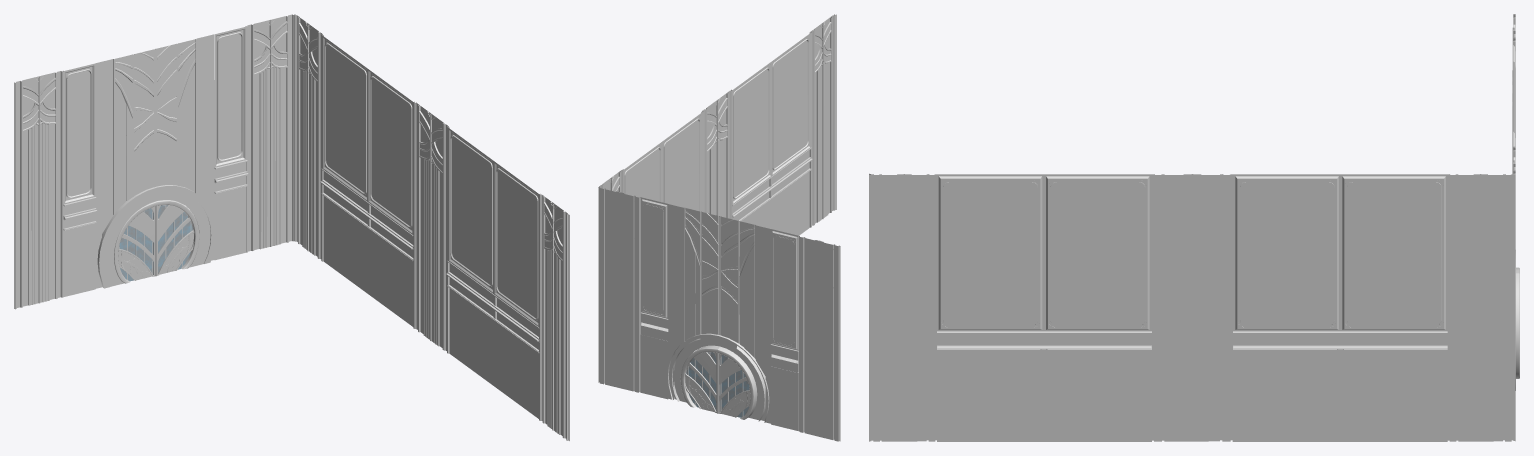
File: Lab_rm_wall_cut.fbx
3 views of the same model, side by side, from view 1: azimuth 30°, elevation 25°; view 2: azimuth 150°, elevation 25°; view 3: azimuth 270°, elevation 25° (orthographic). The views are drawn at different scales.
Parts seen in each view (by area): view 1: polySurface999; view 2: polySurface999; view 3: polySurface999.
Part boxes in pixels (left/top/right/bottom): polySurface999: left=14, top=14, right=569, bottom=440; polySurface999: left=598, top=14, right=840, bottom=441; polySurface999: left=869, top=14, right=1519, bottom=441.
Bounding box in the file's own units: 2984 × 2306 × 5094.
